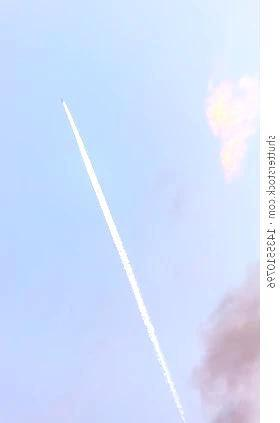Plane: (56, 88, 93, 174)
